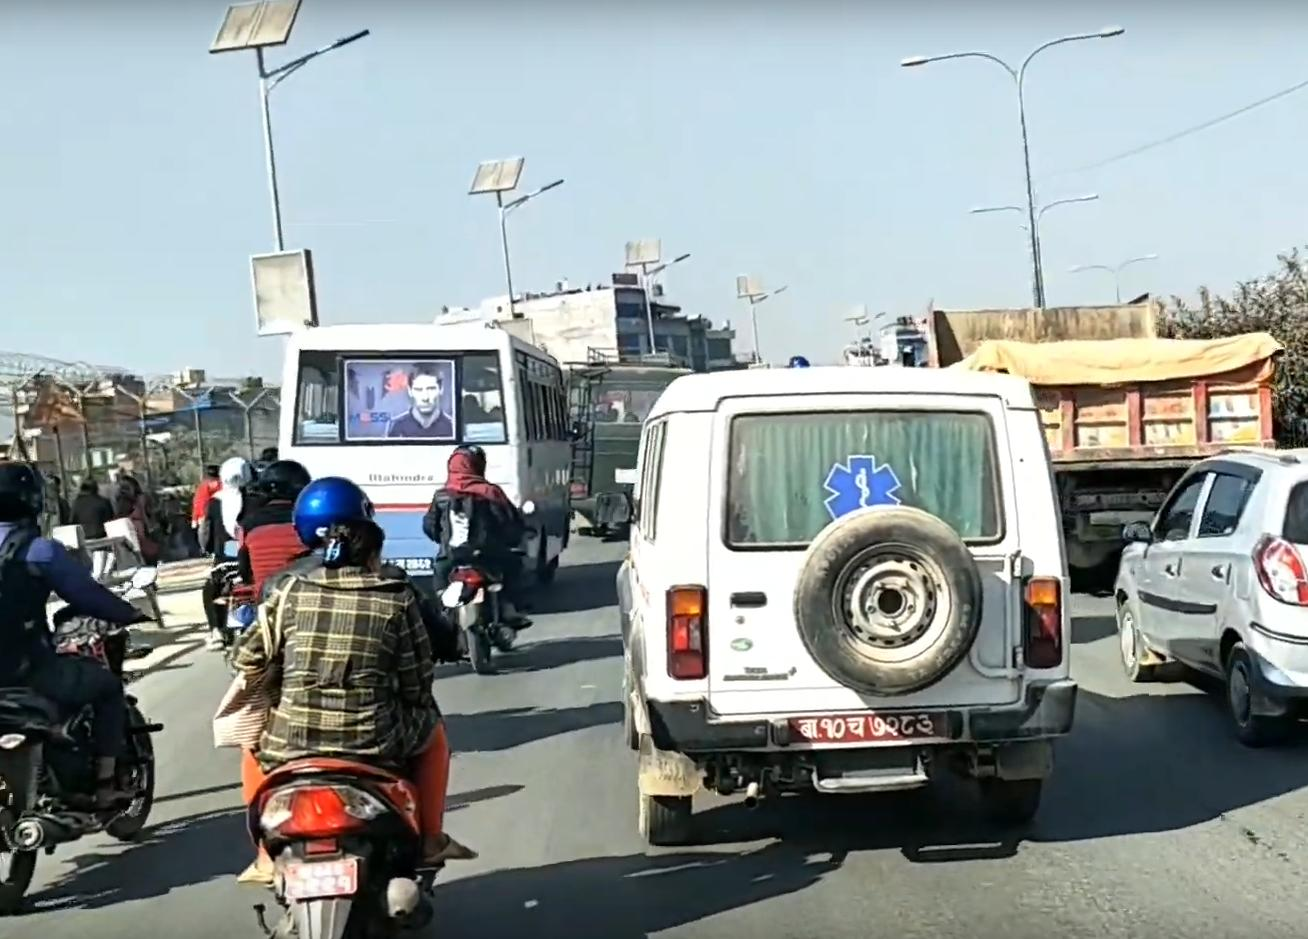ambulance: (607, 344, 1080, 864)
bus: (275, 322, 574, 610)
car: (1109, 433, 1308, 749)
